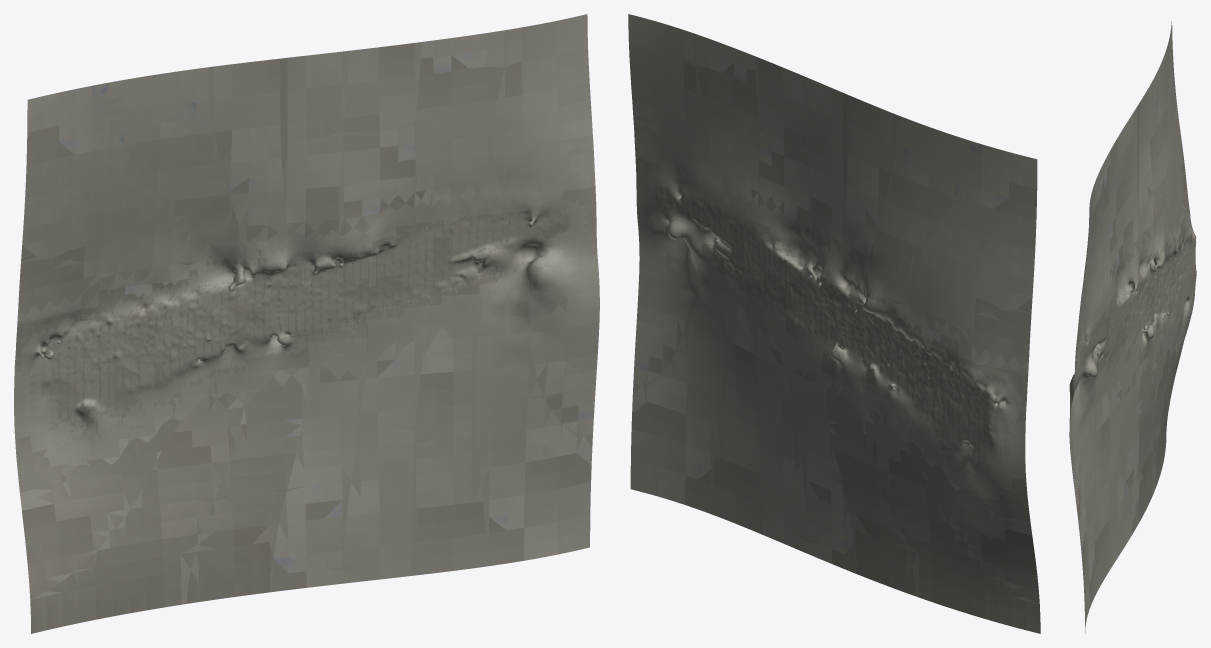
File: floor_demo.dae
3 renders of one model, left to right at view 1: azimuth 30°, elevation 25°; view 2: azimuth 150°, elevation 25°; view 3: azimuth 270°, elevation 25°, orthographic. The views are drawn at different scales.
Parts seen in each view (by area): view 1: refined2_20250523_020730_158913_20250523_2105; view 2: refined2_20250523_020730_158913_20250523_2105; view 3: refined2_20250523_020730_158913_20250523_2105.
Boxes of the visible parts, x1,y1,x2,y2 form: refined2_20250523_020730_158913_20250523_2105: [14, 14, 599, 633]; refined2_20250523_020730_158913_20250523_2105: [628, 14, 1040, 633]; refined2_20250523_020730_158913_20250523_2105: [1069, 21, 1196, 632].
Size of the model in its own units: 20.31 by 5.54 by 20.31.
1 material, 1 textured.
